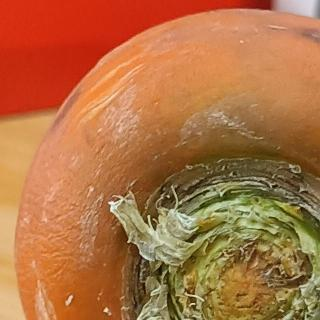carrot: (10, 2, 320, 320)
